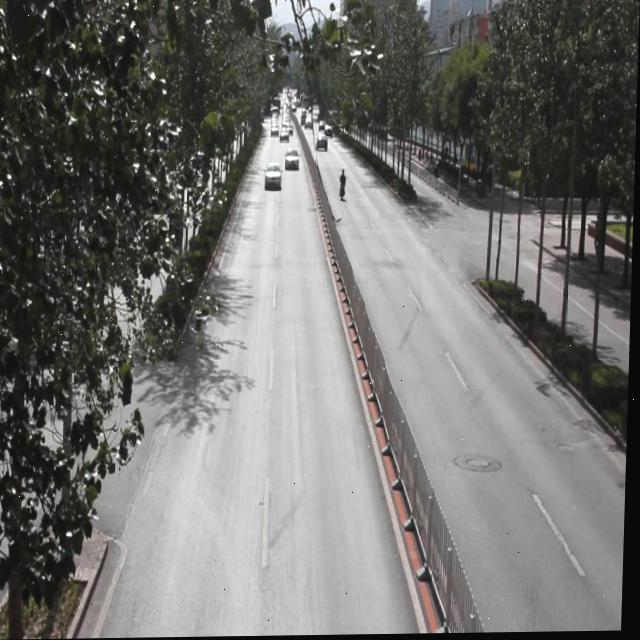car: (265, 164, 282, 186), (285, 149, 300, 168)
